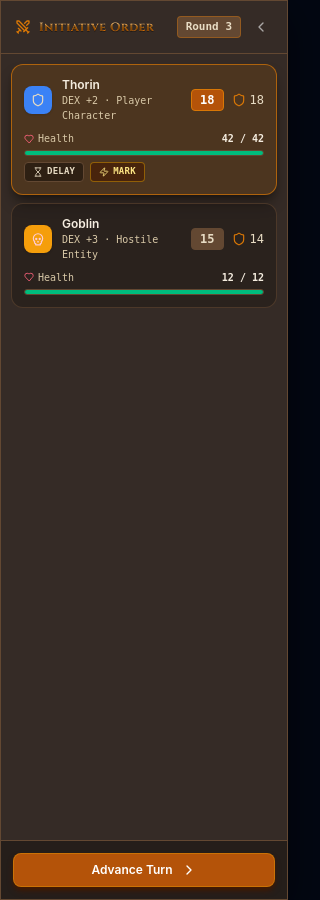
Surprised mark / clear wire + gating (iteration 34) › surfaces an engine rejection code verbatim instead of faking success
Click the button with test id "surprised-mark-thorin_1" at x=118, y=172, box top-left (90, 162), bottom-right (145, 182)
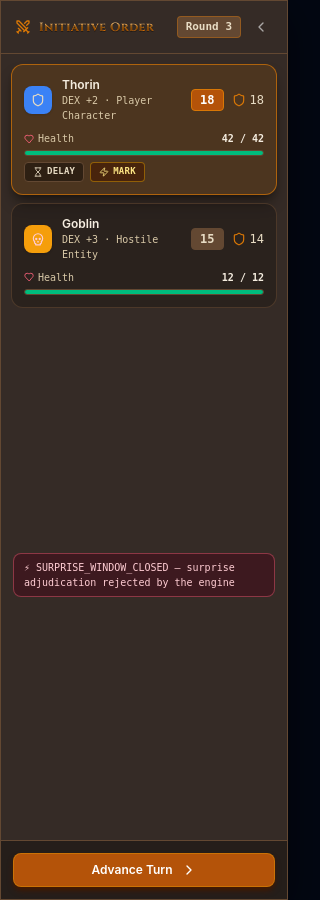
Expected: the message with test id "surprise-error" shows "SURPRISE_WINDOW_CLOSED", top-left (24, 562), bottom-right (235, 588)
